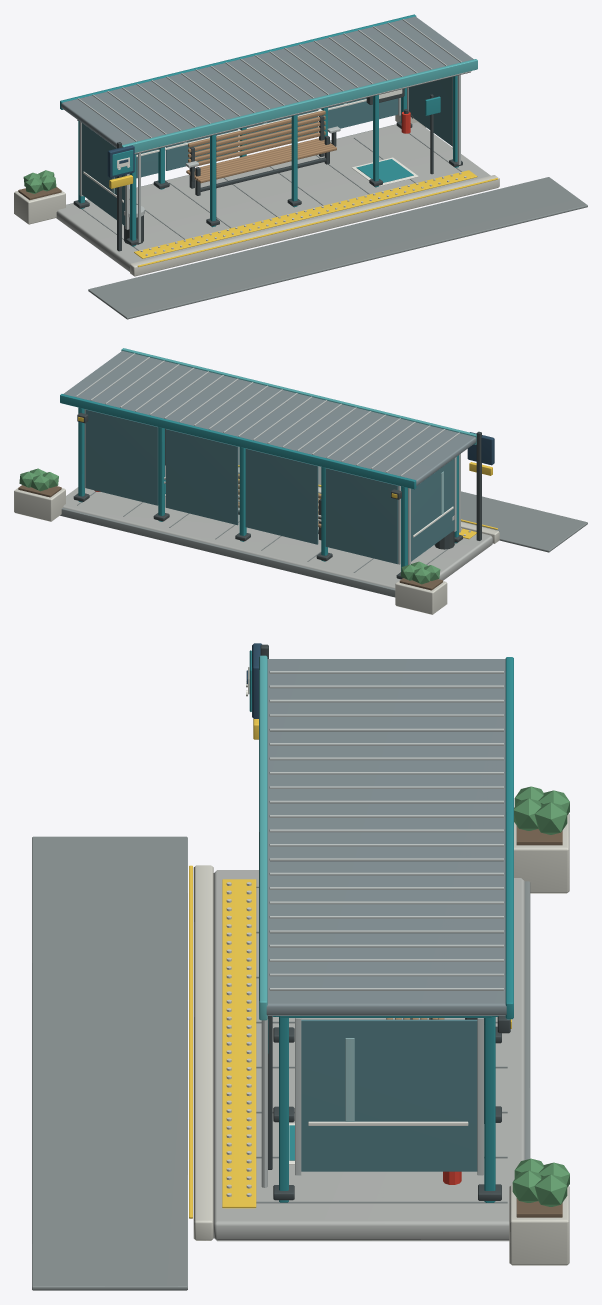
The model's file is Bus_Stop.fbx.
The picture shows the model from 3 angles, top to bottom: view 1: azimuth 30°, elevation 25°; view 2: azimuth 150°, elevation 25°; view 3: azimuth 270°, elevation 25°; orthographic projection. The views are drawn at different scales.
Visible parts, largest first — view 1: Main shelter canopy, Roadside asphalt strip, Raised bus stop platform, Bus stop kerb, Front roof fascia, Tactile warning paving, Side windscreen glass, Side windscreen glass.001, Rear tinted glass panel.003, End planter box, Rear roof fascia, Kerb safety line (+18 smaller); view 2: Main shelter canopy, Raised bus stop platform, Rear tinted glass panel.001, Rear tinted glass panel.002, Rear tinted glass panel.003, Rear tinted glass panel, Roadside asphalt strip, Rear roof fascia, Platform rear fascia, Side windscreen glass, End planter box, Front roof fascia (+8 smaller); view 3: Main shelter canopy, Roadside asphalt strip, Raised bus stop platform, Side windscreen glass.001, Tactile warning paving, Bus stop kerb, End planter box.001, Front roof fascia, Rear roof fascia, End planter box, Rear shelter steel column.004, Platform rear fascia (+20 smaller).
Part boxes in pixels (x1=…): Main shelter canopy: x1=61, y1=16, x2=473, y2=148; Roadside asphalt strip: x1=88, y1=177, x2=587, y2=319; Raised bus stop platform: x1=56, y1=122, x2=490, y2=271; Bus stop kerb: x1=130, y1=175, x2=499, y2=276; Front roof fascia: x1=122, y1=59, x2=477, y2=152; Tactile warning paving: x1=134, y1=170, x2=477, y2=258; Side windscreen glass: x1=82, y1=123, x2=125, y2=225; Side windscreen glass.001: x1=409, y1=77, x2=452, y2=146; Rear tinted glass panel.003: x1=328, y1=98, x2=398, y2=128; End planter box: x1=14, y1=191, x2=65, y2=224; Rear roof fascia: x1=60, y1=14, x2=416, y2=109; Kerb safety line: x1=137, y1=178, x2=497, y2=267; Main shelter canopy: x1=63, y1=351, x2=476, y2=485; Raised bus stop platform: x1=63, y1=465, x2=492, y2=588; Rear tinted glass panel.001: x1=245, y1=448, x2=318, y2=544; Rear tinted glass panel.002: x1=165, y1=429, x2=238, y2=525; Rear tinted glass panel.003: x1=85, y1=409, x2=158, y2=505; Rear tinted glass panel: x1=325, y1=468, x2=398, y2=564; Roadside asphalt strip: x1=238, y1=446, x2=587, y2=552; Rear roof fascia: x1=60, y1=394, x2=416, y2=489; Platform rear fascia: x1=60, y1=508, x2=395, y2=597; Side windscreen glass: x1=411, y1=458, x2=454, y2=561; End planter box: x1=395, y1=579, x2=447, y2=614; Front roof fascia: x1=121, y1=348, x2=476, y2=444; Main shelter canopy: x1=266, y1=659, x2=506, y2=1015; Roadside asphalt strip: x1=32, y1=836, x2=187, y2=1290; Raised bus stop platform: x1=213, y1=870, x2=524, y2=1241; Side windscreen glass.001: x1=301, y1=1019, x2=477, y2=1171; Tactile warning paving: x1=222, y1=879, x2=256, y2=1208; Bus stop kerb: x1=193, y1=865, x2=213, y2=1240; End planter box.001: x1=509, y1=1184, x2=569, y2=1265; Front roof fascia: x1=259, y1=655, x2=267, y2=1020; Rear roof fascia: x1=505, y1=657, x2=513, y2=1019; End planter box: x1=514, y1=814, x2=569, y2=893; Rear shelter steel column.004: x1=484, y1=1017, x2=495, y2=1202; Platform rear fascia: x1=524, y1=881, x2=530, y2=1159.
Bounding box in the file's own units: 1500 × 379 × 758.
